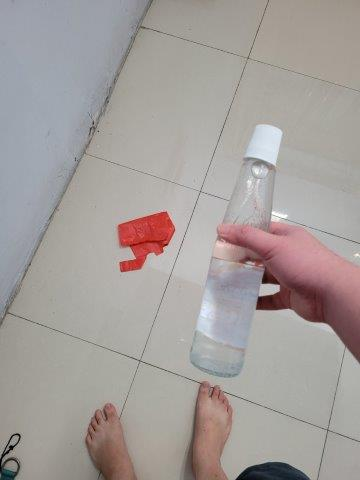botolkaca: (191, 126, 275, 377)
plastik: (116, 213, 175, 276)
